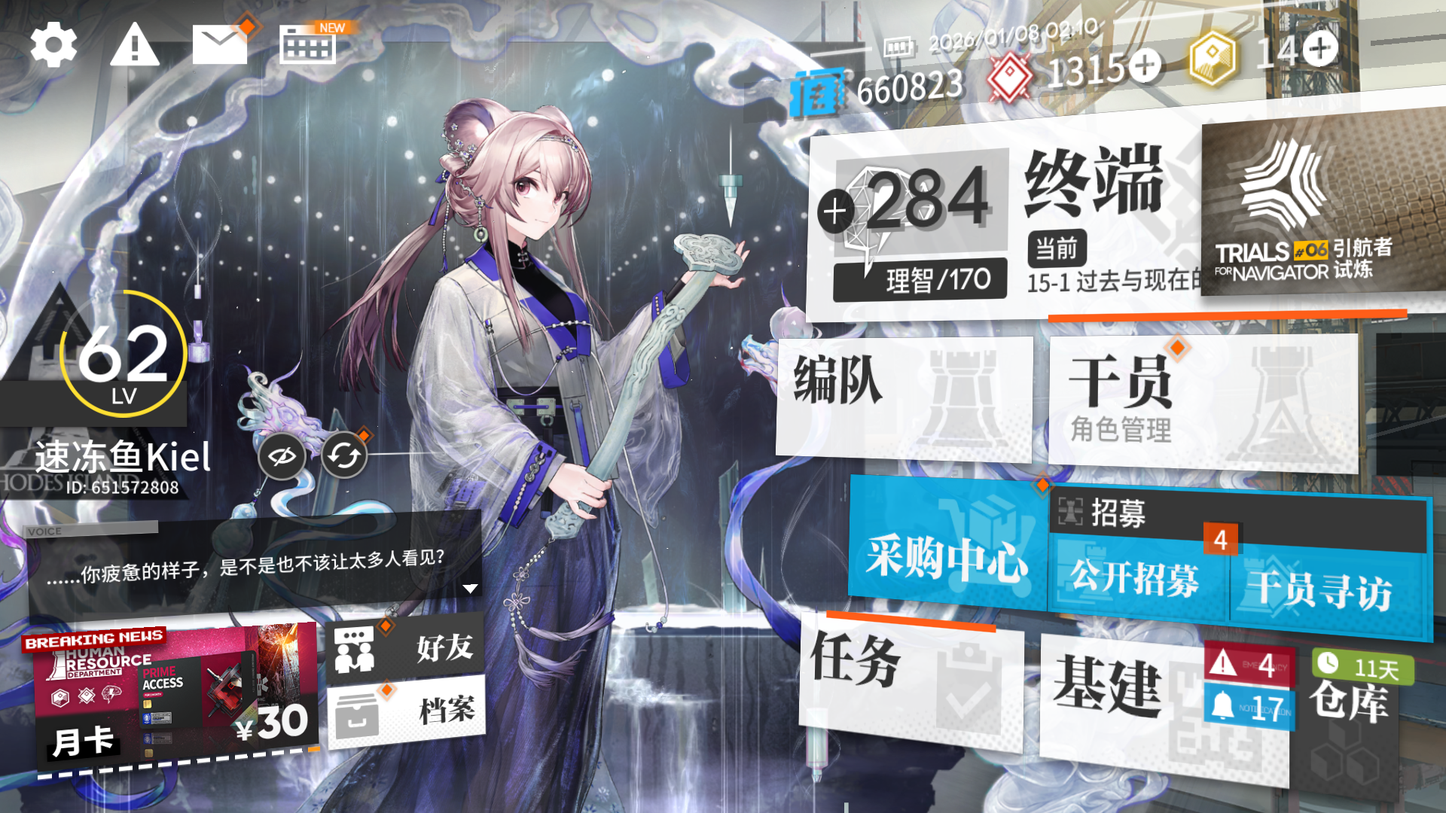home_button: (1019, 139, 1195, 231)
infrastructure_button: (1017, 630, 1289, 767)
